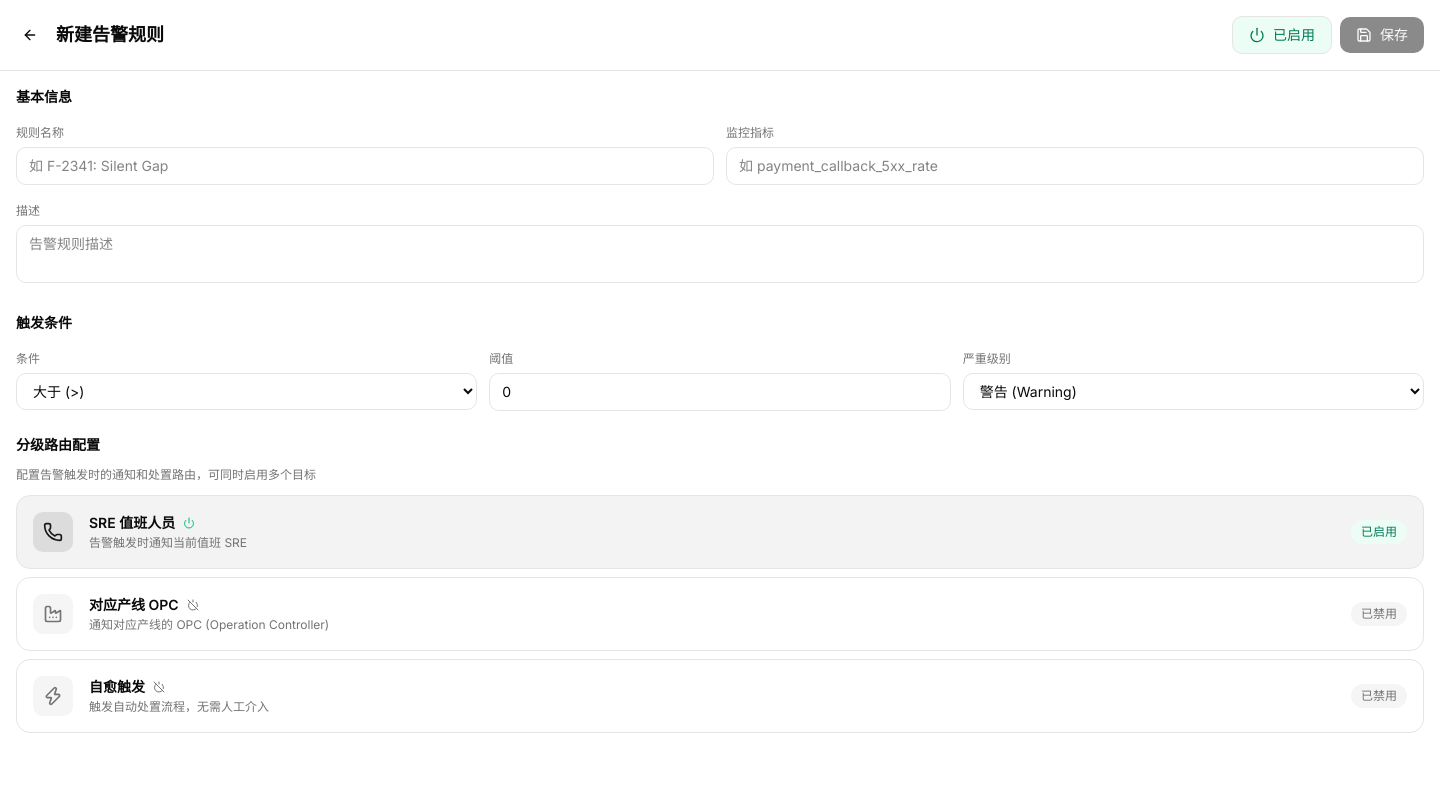
Test: AlertRuleForm › enables save when name and metric are filled
Type "Test" into the field with placeholder "如 F-2341: Silent Gap" at (365, 166), box [16,147,714,185]
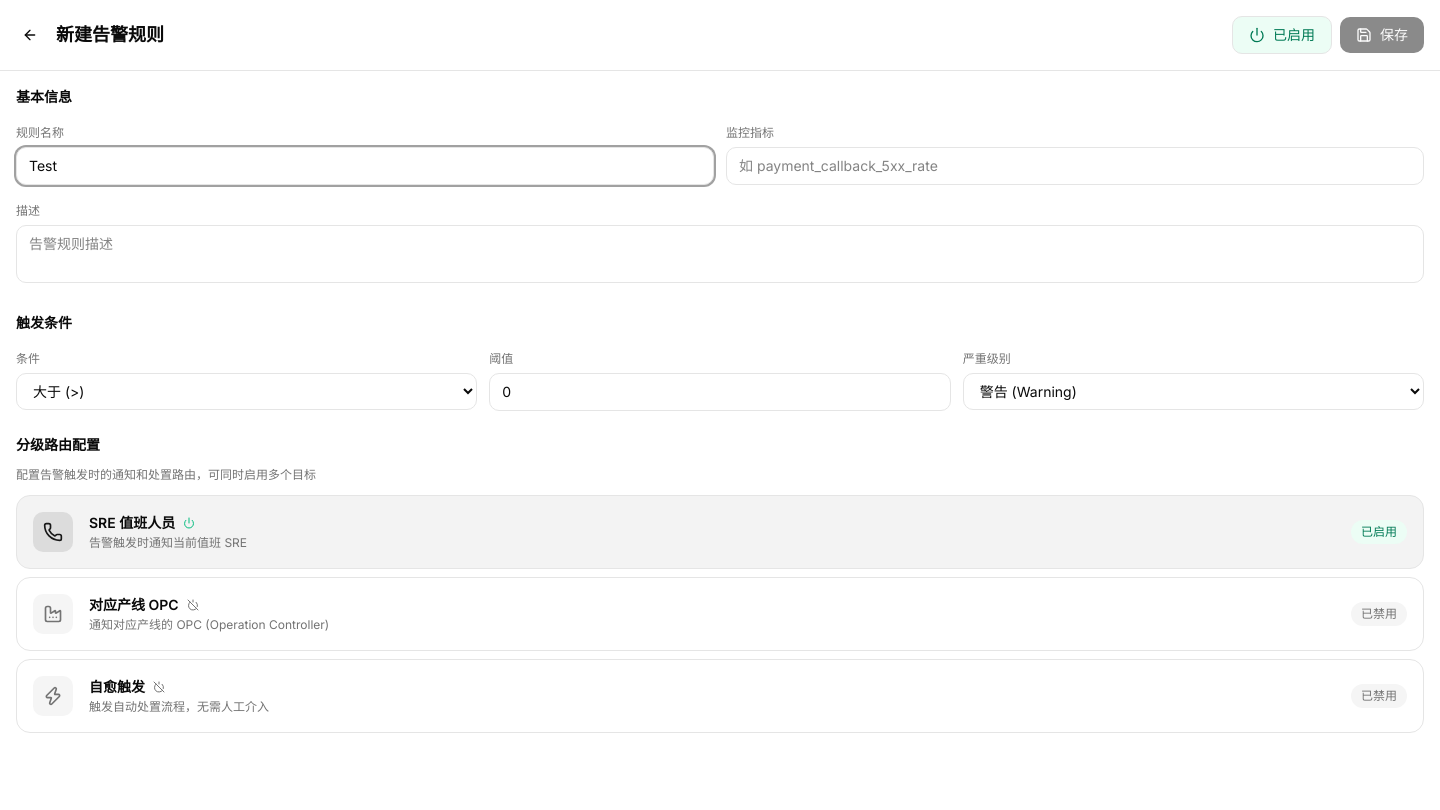
Type "test_metric" into the field with placeholder "如 payment_callback_5xx_rate" at (1075, 166), box [726,147,1424,185]
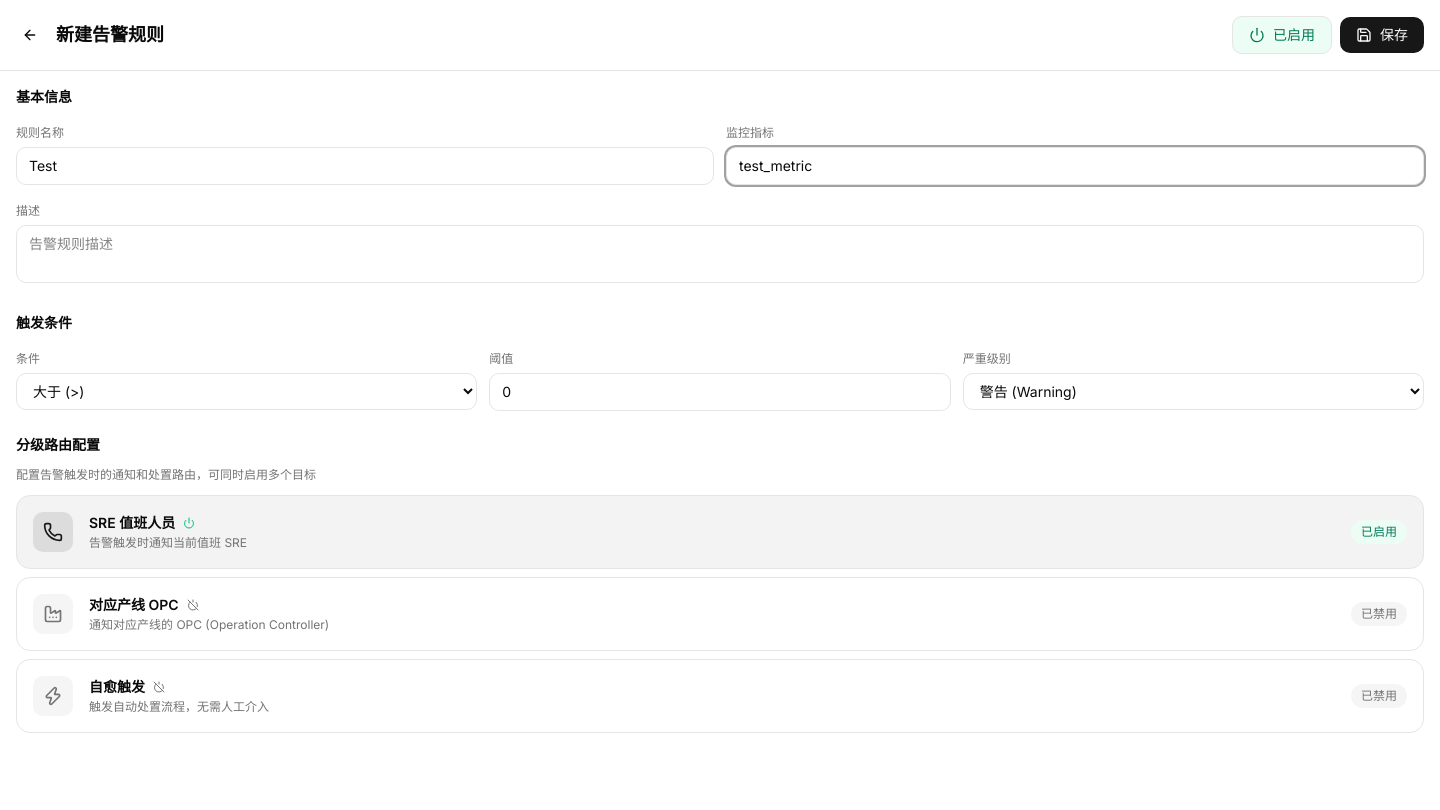
Expected: the button "保存" is enabled, [1340,17,1424,53]
